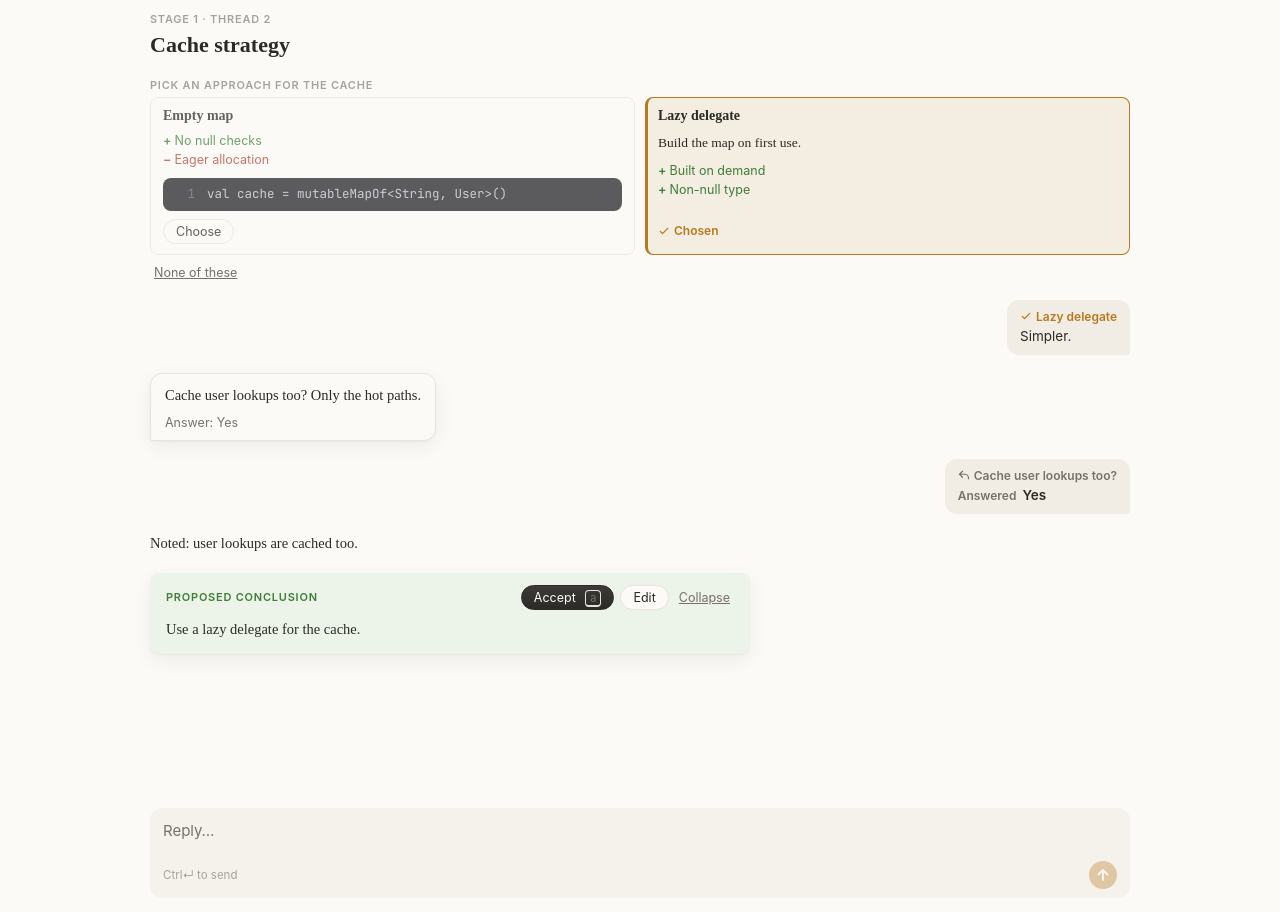
Test: ThreadView › keeps the editor open when Save fails, and cancels back to the proposal
The image size is (1280, 912).
Step 1. Click the button "Edit" → (645, 598), box [620,585,669,610]
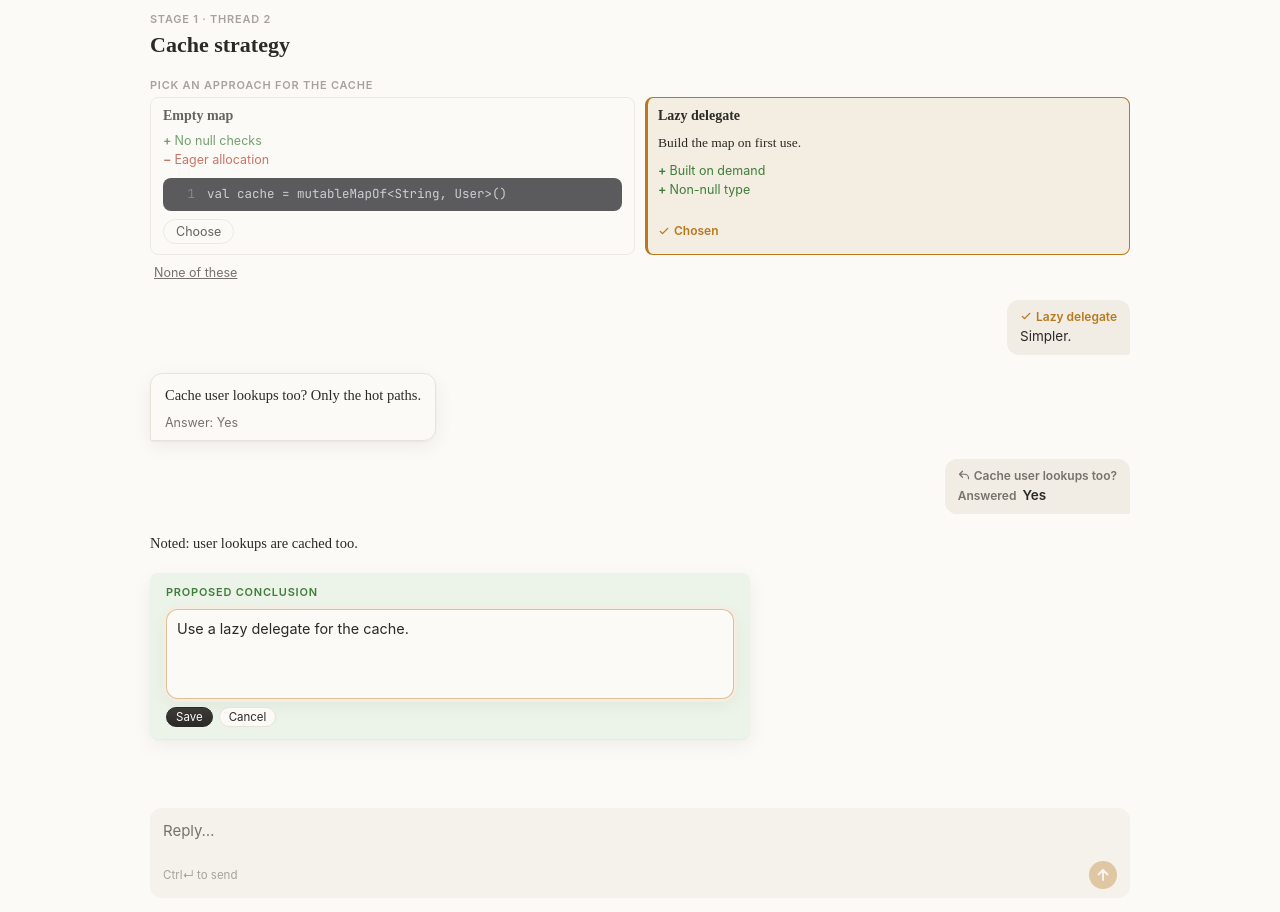
Step 2. Type " More." into the text box named "Edit conclusion" → (450, 650), box [177,618,723,683]
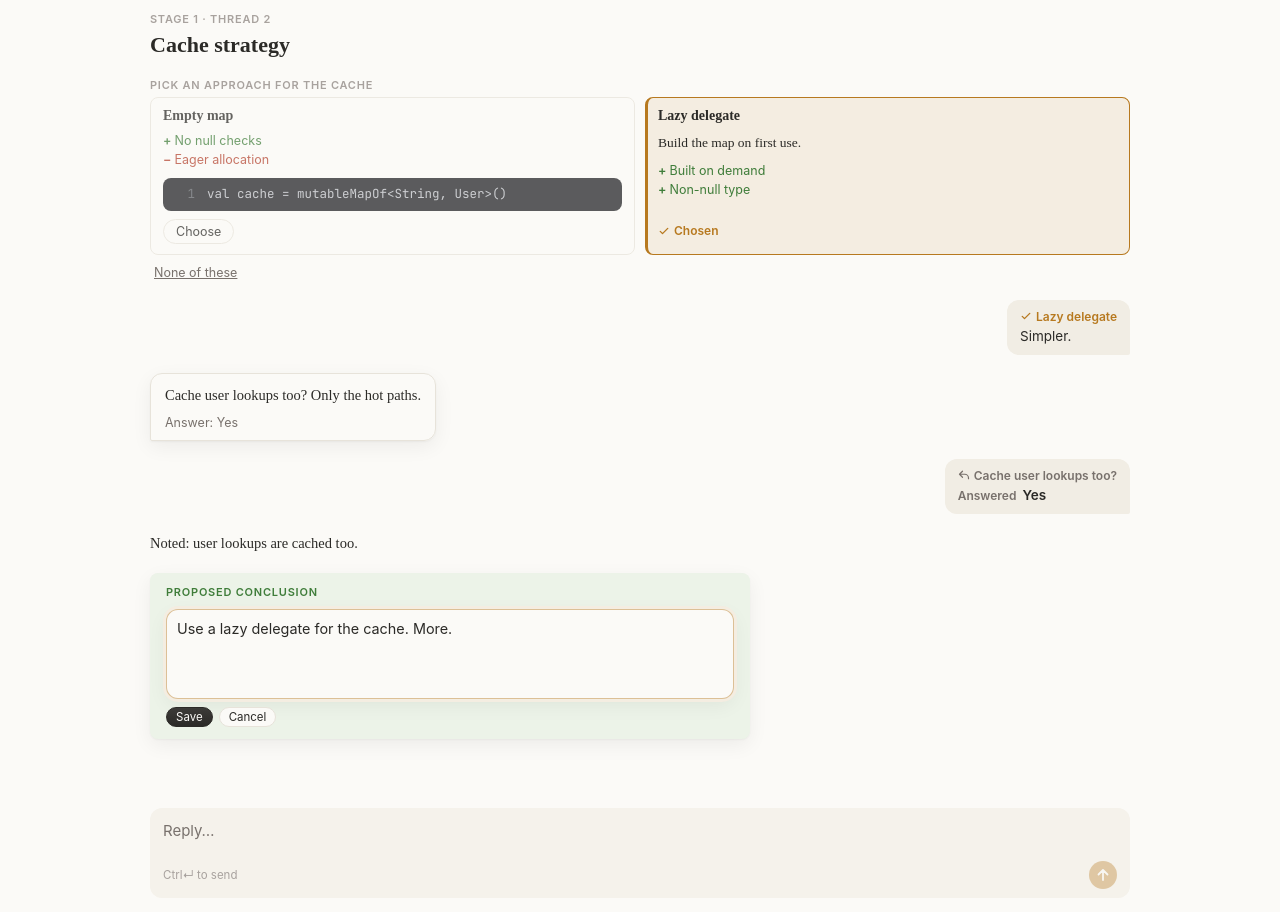
Step 3. Click the button "Save" → (189, 717), box [166,707,213,727]
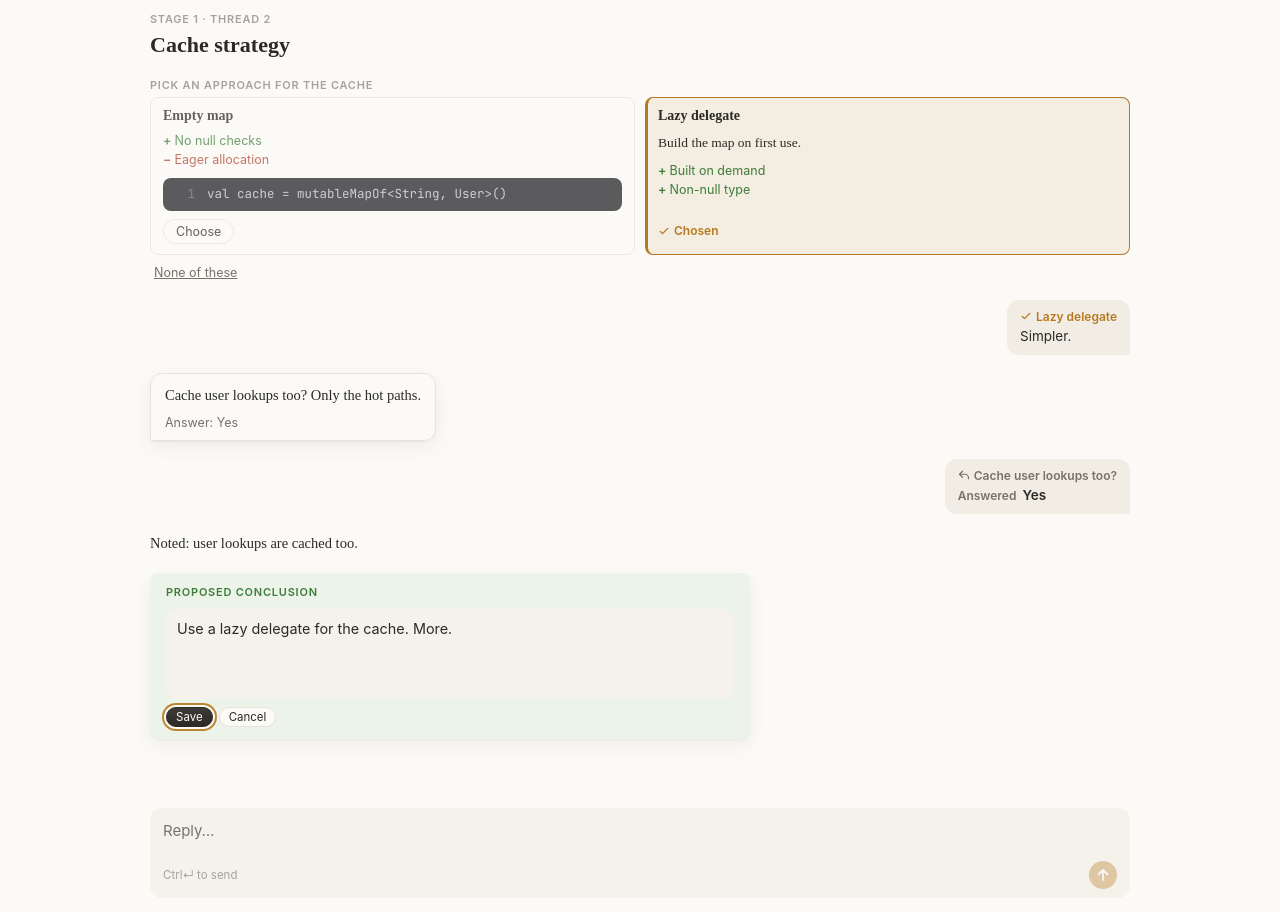
Now the text box named "Edit conclusion" is shown, box [177,618,723,683]
Step 4. Click the button "Cancel" → (247, 717), box [219,707,276,727]
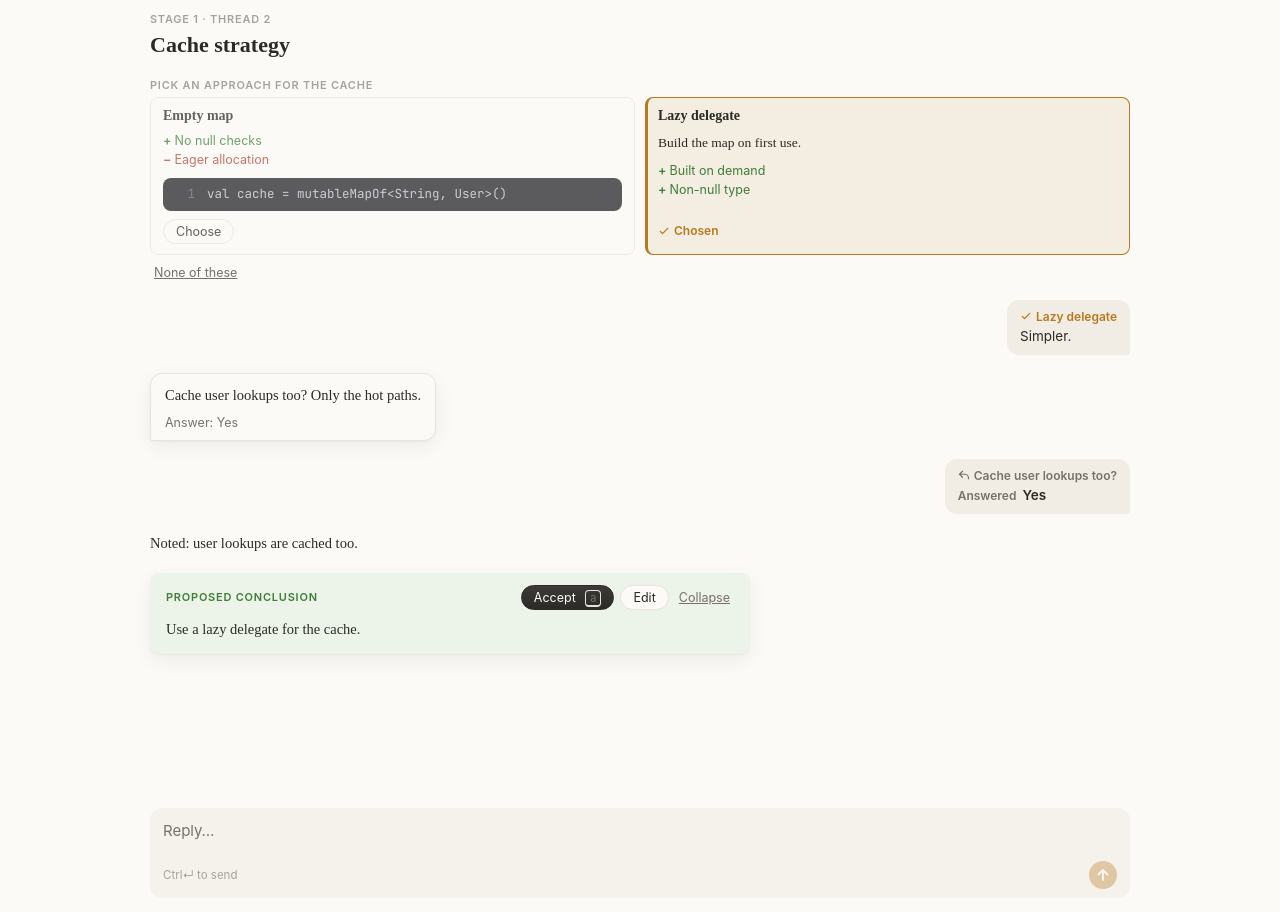
Now the element "Proposed conclusion" shows "Use a lazy delegate for the cache.", box [166,621,360,637]
Now the button "Accept a" is shown, box [521,585,614,610]
